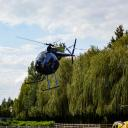helicopter: (17, 37, 85, 92)
